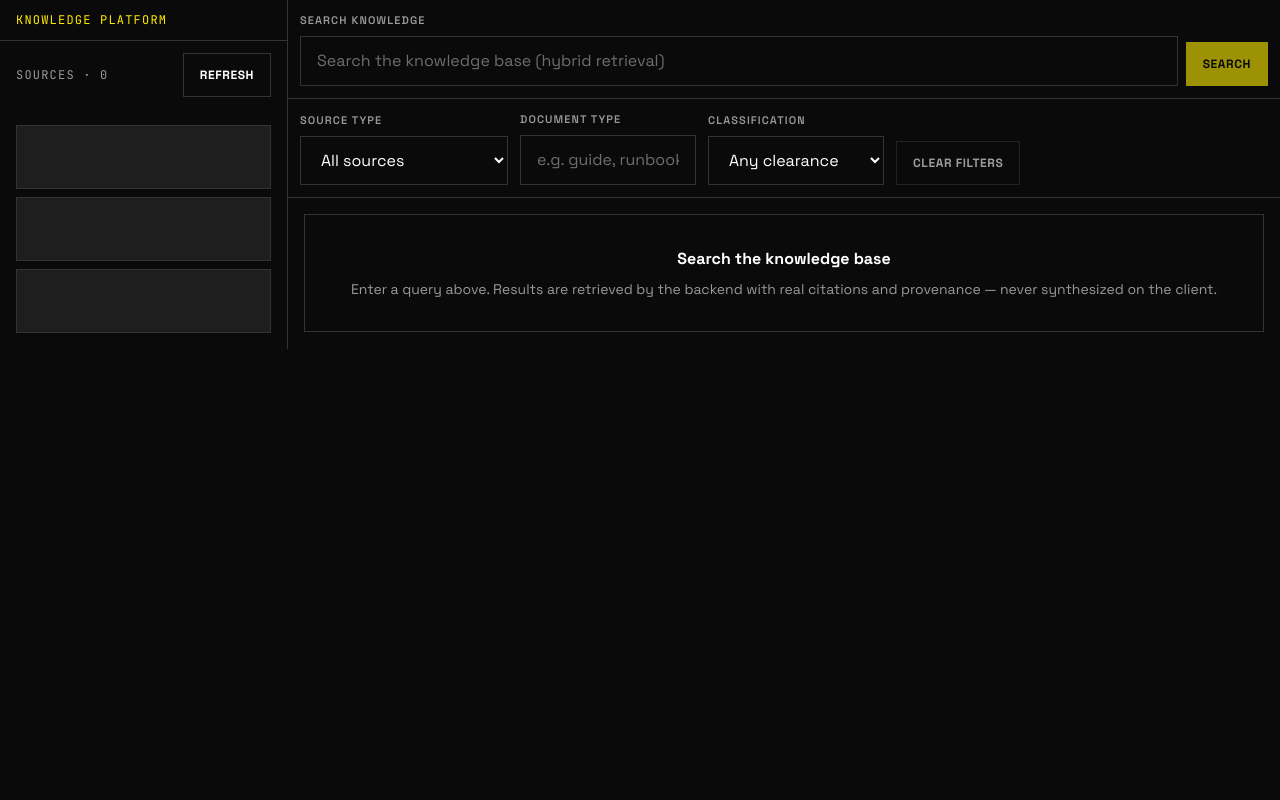
Knowledge Workspace › renders backend citation links safely (no javascript: URLs as anchors)
The width and height of the screenshot is (1280, 800).
Type "hello" into the field labelled "Knowledge search" at (739, 61), box [300,36,1178,86]
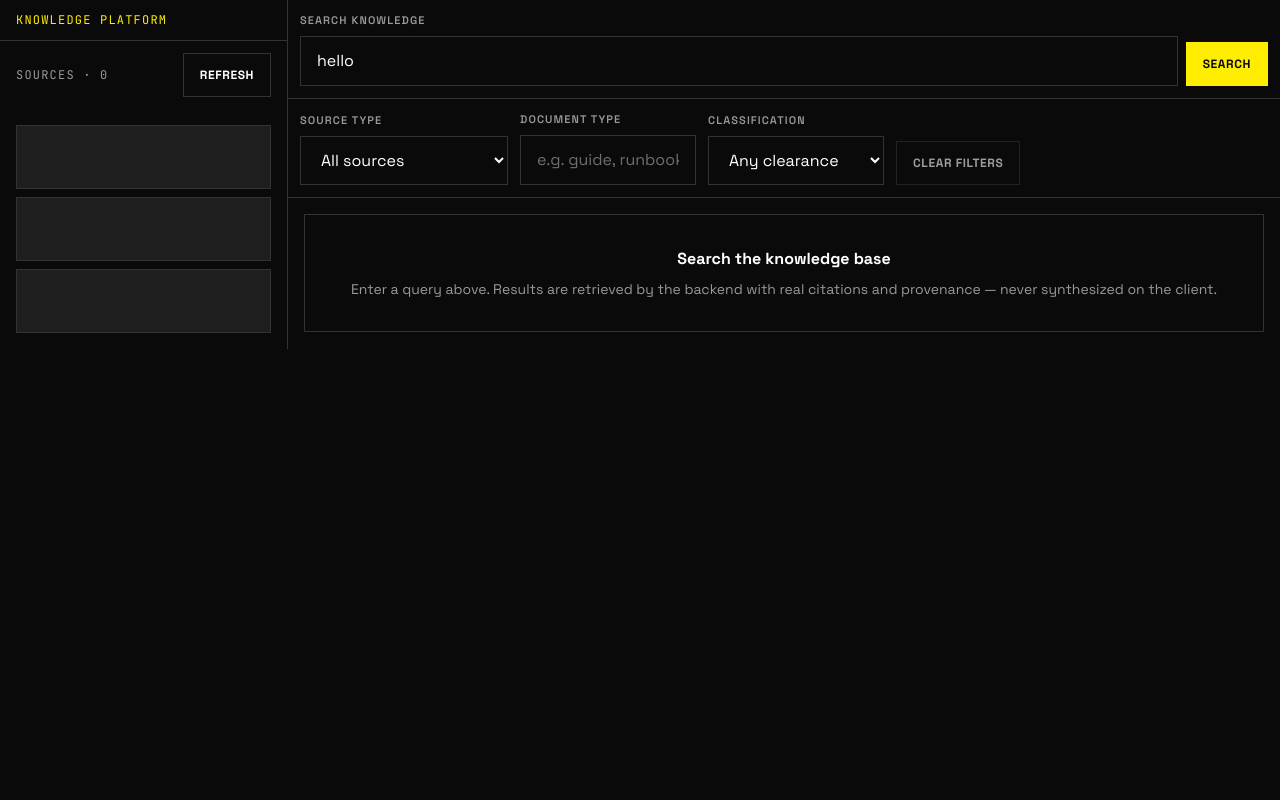
Click the button "Search" at (1227, 64), box [1186,42,1268,86]
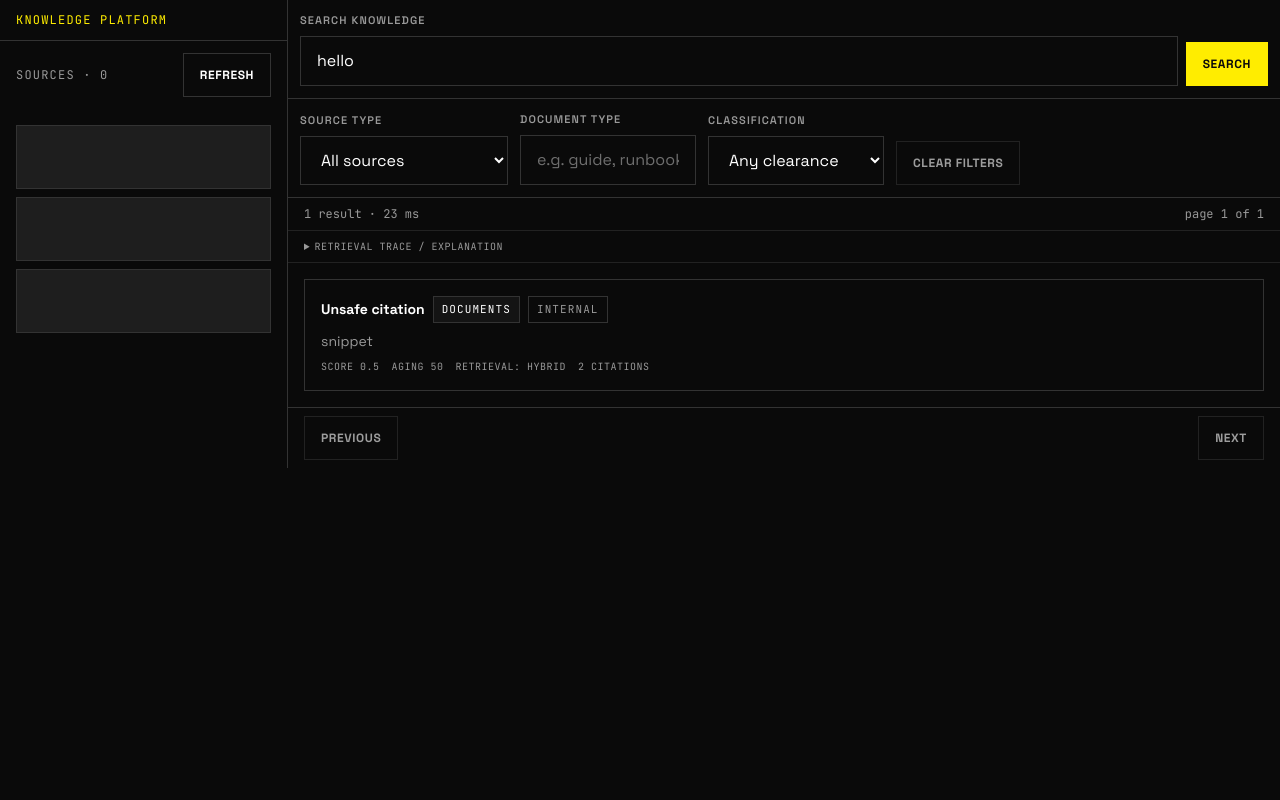
Check: the list named "Knowledge results" is shown, box [288,263,1279,406]
Click the button "Unsafe citation" at (373, 309), box [304,279,1264,390]
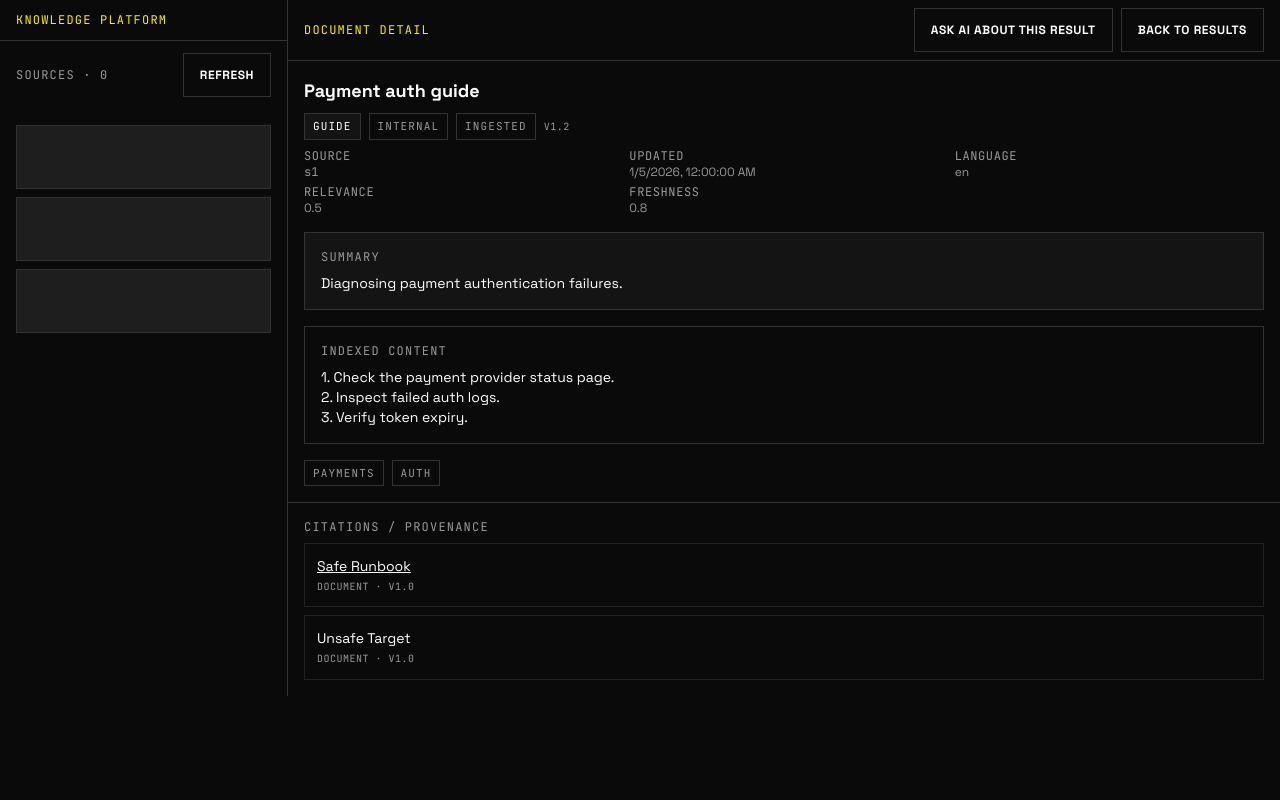
Check: the heading "Citations / provenance" is shown, box [304,519,489,535]
Check: the text "Unsafe Target" is shown, box [317,629,411,647]
